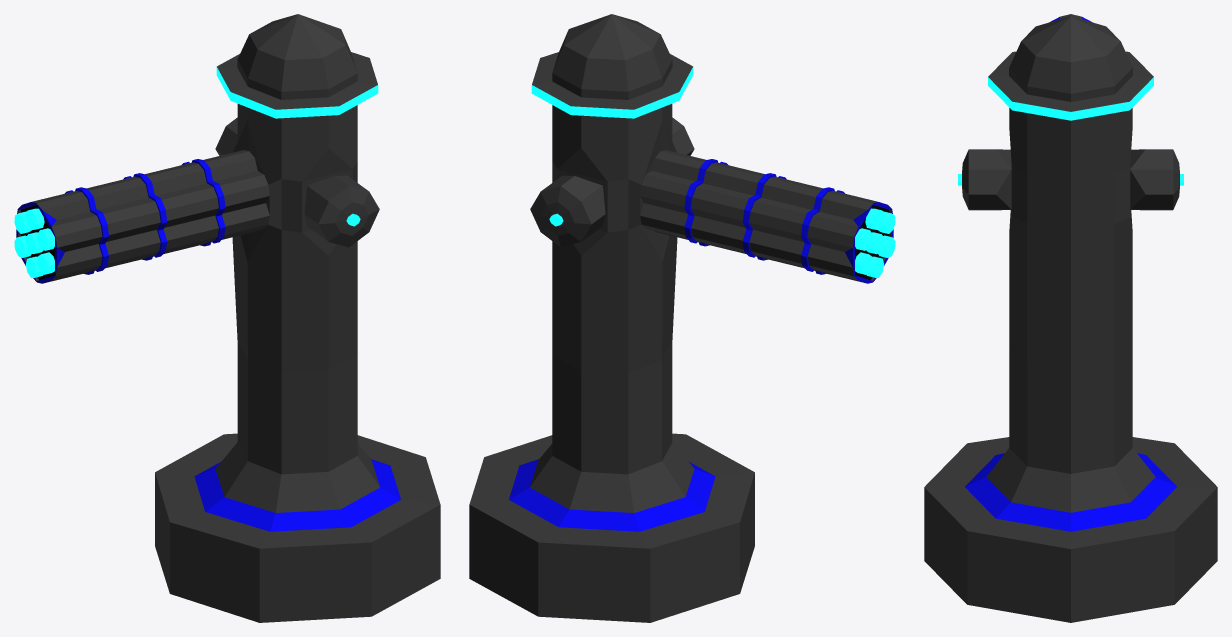
The model's file is TurretWatergun.fbx.
The picture shows the model from 3 angles, left to right: view 1: azimuth 30°, elevation 25°; view 2: azimuth 150°, elevation 25°; view 3: azimuth 270°, elevation 25°; orthographic projection.
Visible parts, largest first — view 1: WaterGun; view 2: WaterGun; view 3: WaterGun.
Boxes of the visible parts, bbox=[...] form: WaterGun: bbox=[14, 14, 440, 622]; WaterGun: bbox=[469, 14, 895, 622]; WaterGun: bbox=[924, 14, 1217, 622].
Size of the model in its own units: 1016 by 1349 by 658.
